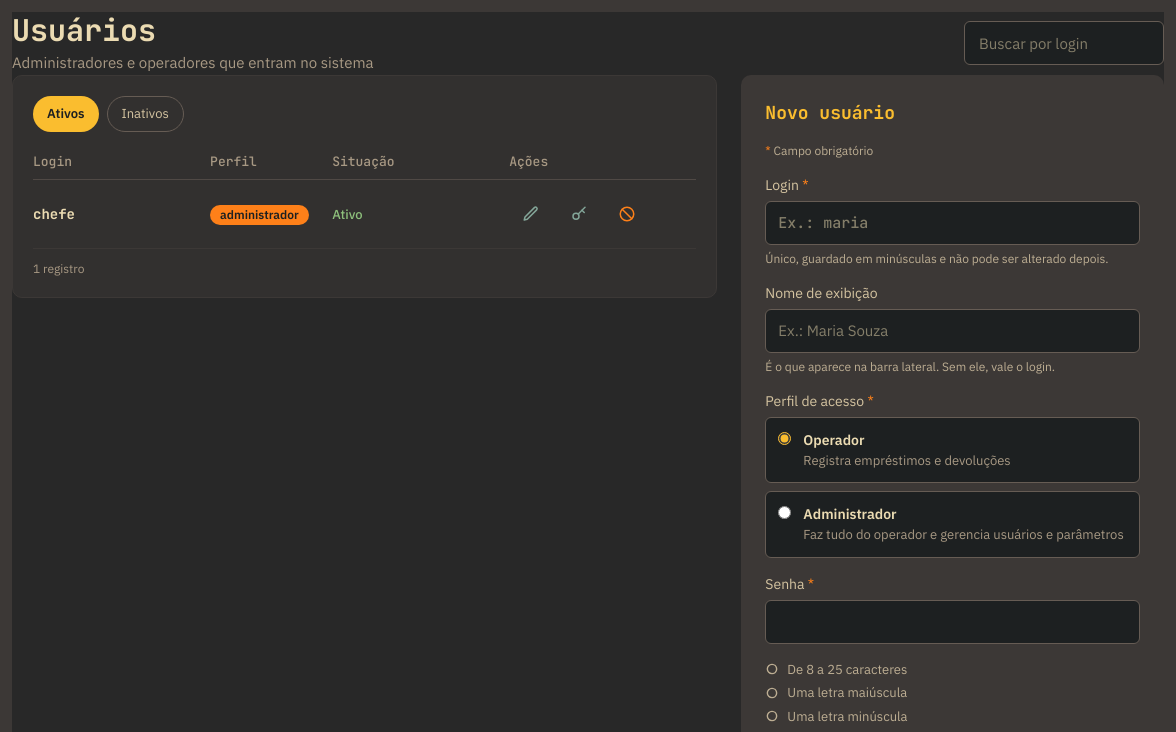
Test case: usuários: reativação › oferece "Reativar" ao administrador e ao operador inativos, e não ao acesso de leitor
This screenshot has width=1176, height=732.
Click the button "Inativos": (145,114) [106,96,184,132]
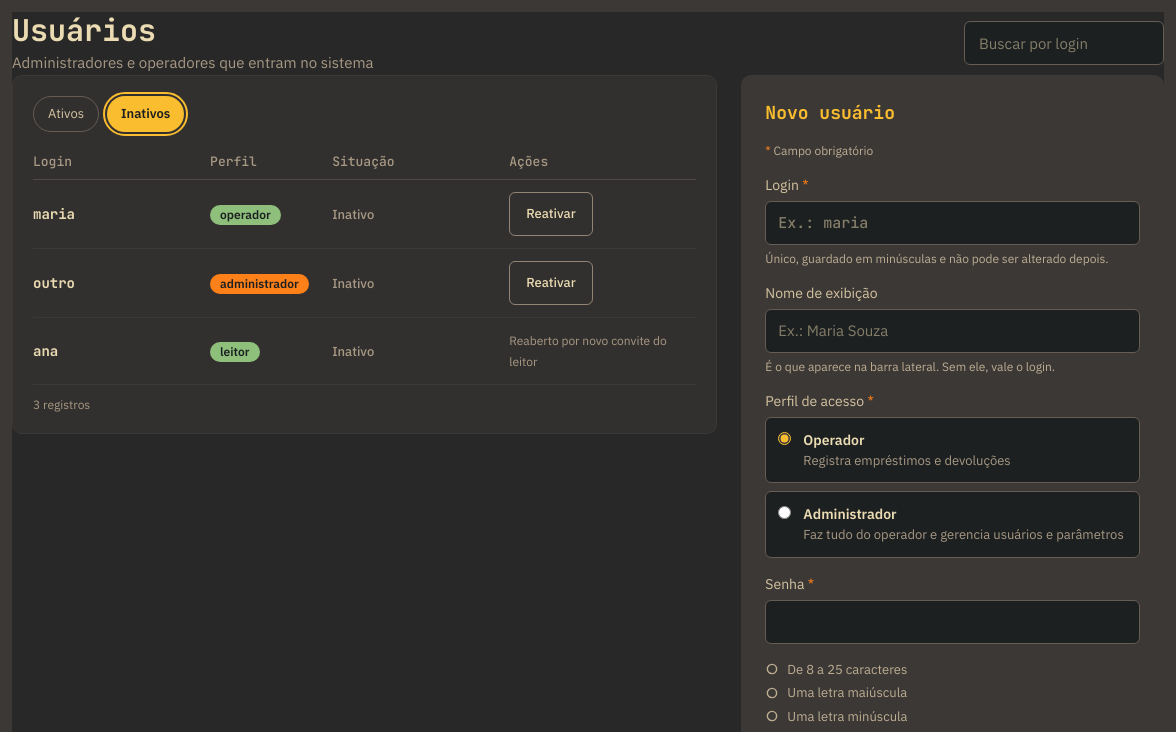
Check: the button with aria-label "Reativar maria" is shown, box [509,192,593,236]
Check: the button with aria-label "Reativar outro" is shown, box [509,261,593,305]
